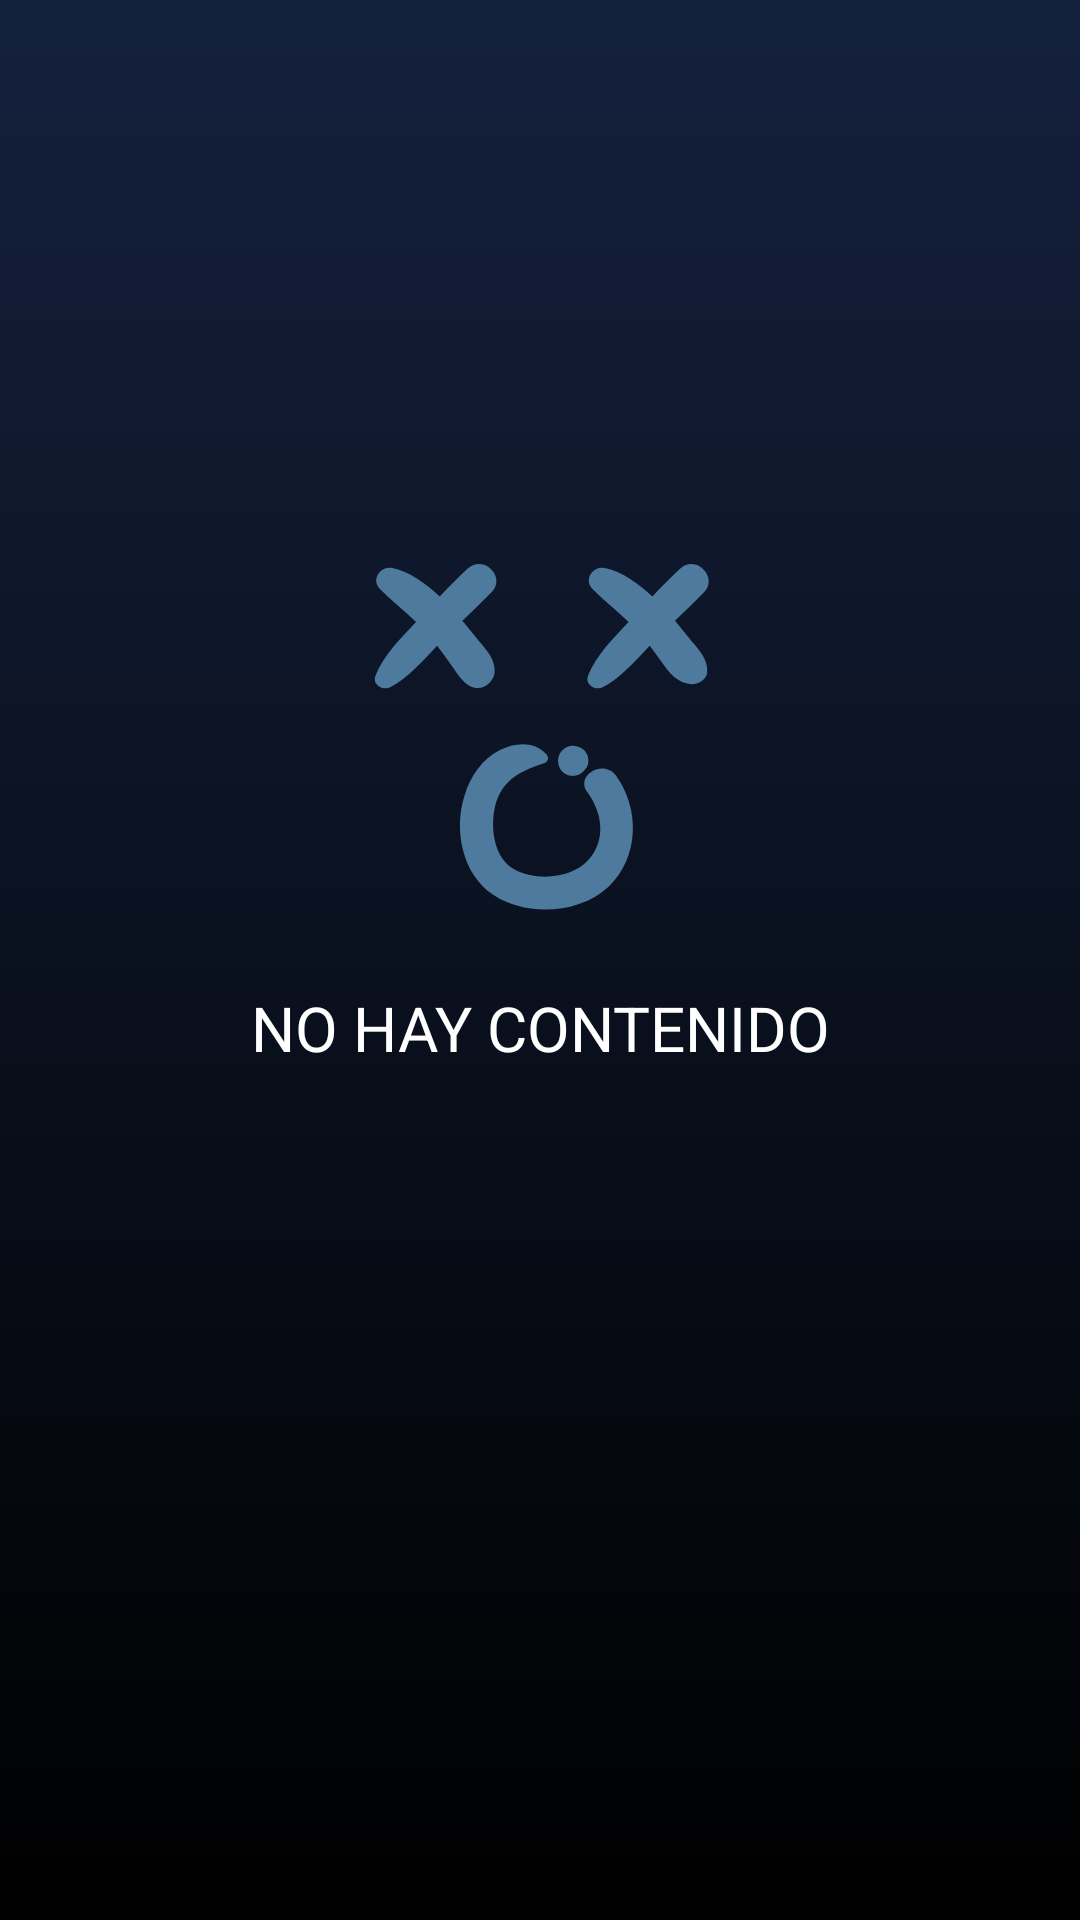

Screen size 1080×1920. Icon name, then its center in pixels as point (x, y):
dead emoji: point (542, 737)
